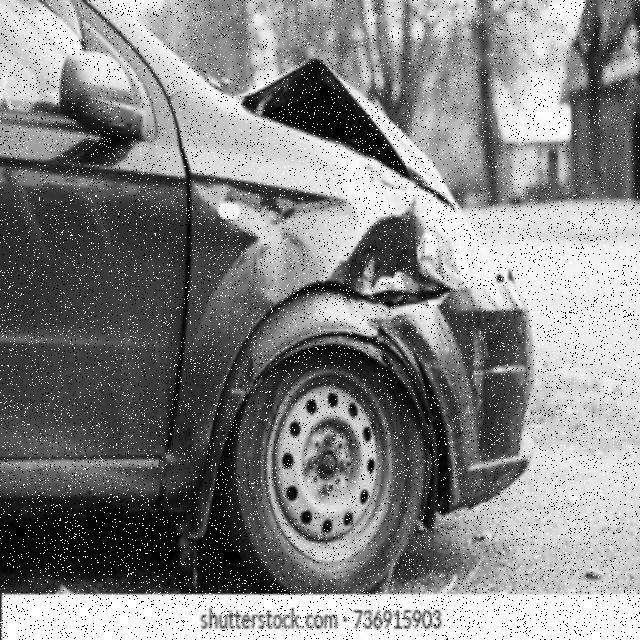fender-dent: (190, 160, 403, 370)
front-bumper-dent: (406, 262, 542, 527)
